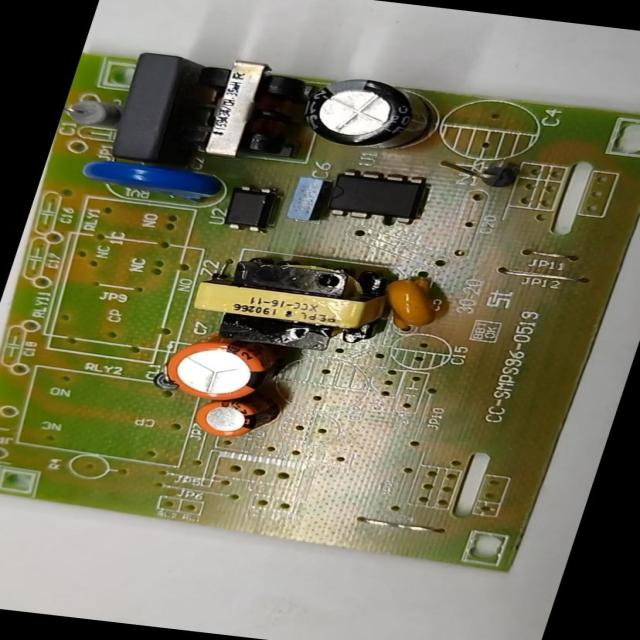Cap1: (156, 337, 271, 400)
Cap2: (189, 398, 282, 440)
Cap3: (297, 72, 433, 150)
MOSFET: (324, 169, 428, 223)
Mov: (79, 158, 223, 197)
Resistor: (60, 98, 119, 128)
Transformer: (180, 245, 390, 355), (180, 58, 310, 158)
